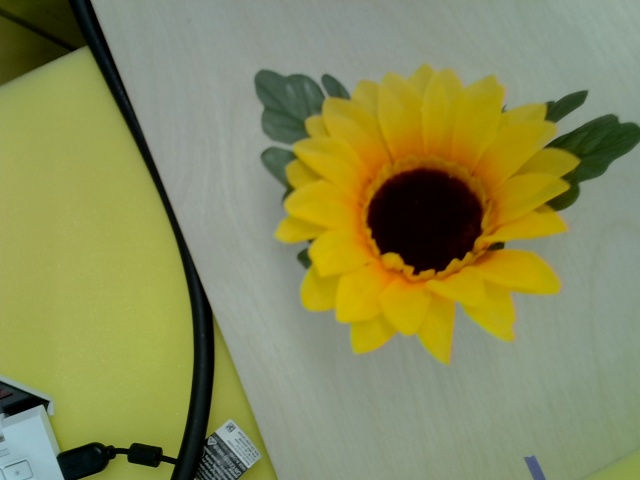해바라기: (270, 64, 574, 362)
